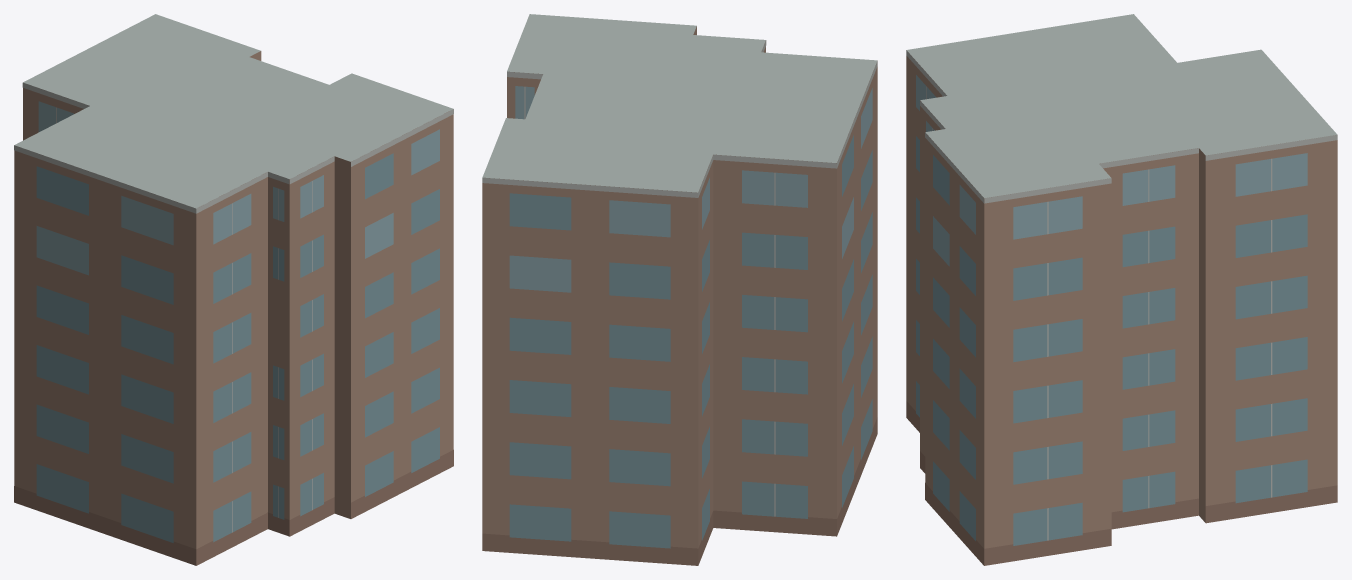
Rendered from survey-upis-32928395.glb.
3 renders of one model, left to right at view 1: azimuth 30°, elevation 25°; view 2: azimuth 150°, elevation 25°; view 3: azimuth 270°, elevation 25°, orthographic. The views are drawn at different scales.
Visible parts, largest first — view 1: survey-upis-32928395.tmp; view 2: survey-upis-32928395.tmp; view 3: survey-upis-32928395.tmp.
Part boxes in pixels (x1,y1,x2,y2): survey-upis-32928395.tmp: (14,14,453,565); survey-upis-32928395.tmp: (482,14,877,565); survey-upis-32928395.tmp: (906,14,1337,565).
Size of the model in its own units: 17.95 by 16.7 by 17.76.
